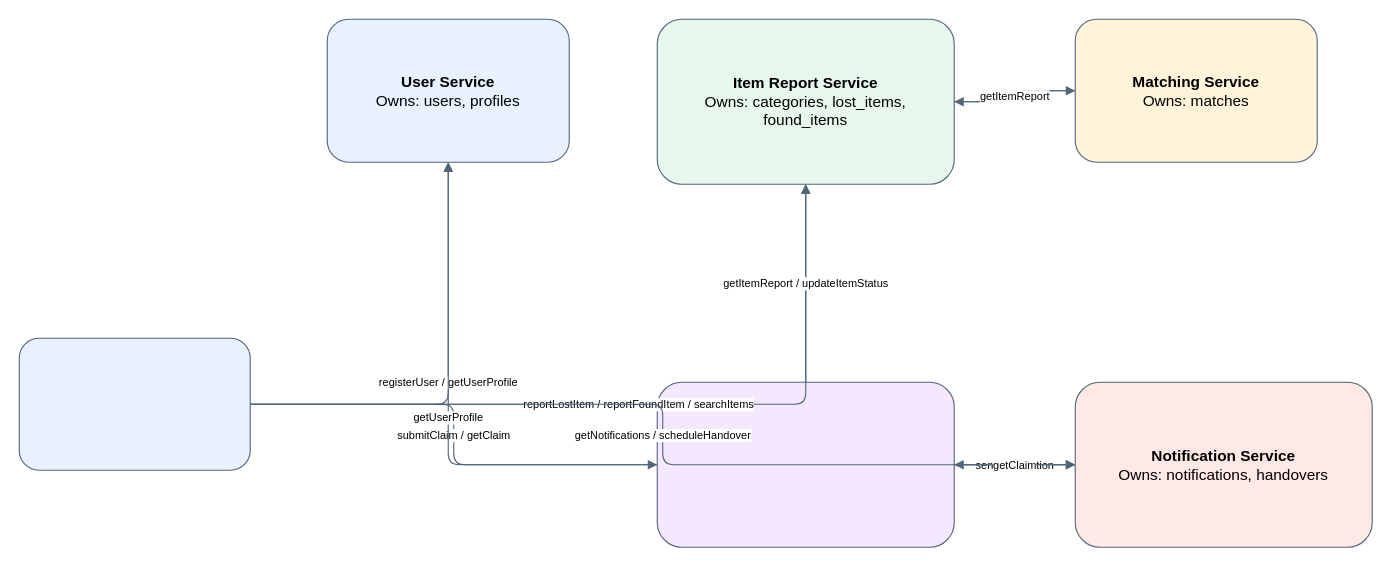
This 1392x567 diagram has some shape labels left out. Each missing label, with the centre of its shape:
"Claims & Verification Service Owns: claims, claim_verification" goes at (x=805, y=464).
"Client / Web App Students and campus staff" goes at (x=134, y=403).
